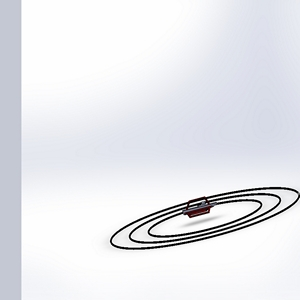circle: (99, 172, 300, 266)
submarine: (171, 189, 219, 219)
